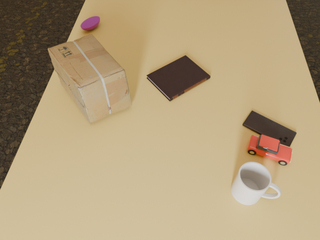book: (147, 55, 210, 101)
box: (48, 34, 132, 123)
cup: (231, 162, 281, 205)
mouse: (81, 16, 100, 30)
phone: (243, 111, 296, 147)
toy_car: (247, 135, 293, 165)
